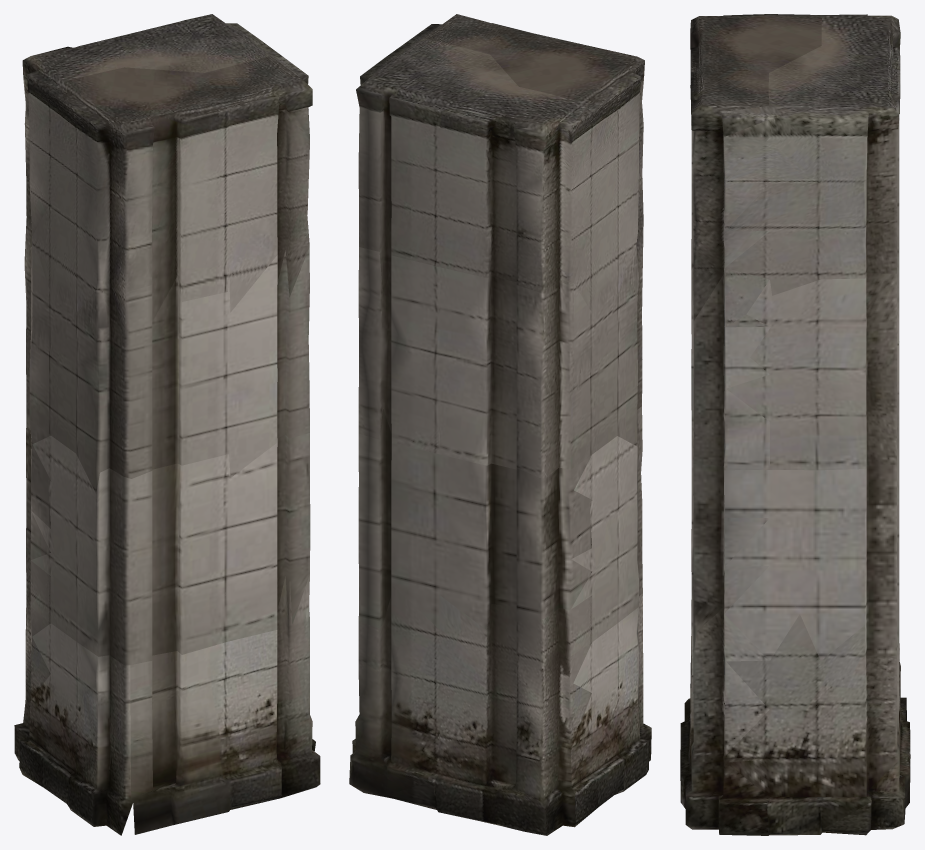
The model's file is sutun2.glb.
3 views of the same model, side by side, from view 1: azimuth 30°, elevation 25°; view 2: azimuth 150°, elevation 25°; view 3: azimuth 270°, elevation 25° (orthographic). The views are drawn at different scales.
Parts seen in each view (by area): view 1: tripo_node_1f91a4f5-8e6b-4793-ac41-afb8d5ba1a52; view 2: tripo_node_1f91a4f5-8e6b-4793-ac41-afb8d5ba1a52; view 3: tripo_node_1f91a4f5-8e6b-4793-ac41-afb8d5ba1a52.
Boxes of the visible parts, x1=… form: tripo_node_1f91a4f5-8e6b-4793-ac41-afb8d5ba1a52: x1=14, y1=14, x2=320, y2=835; tripo_node_1f91a4f5-8e6b-4793-ac41-afb8d5ba1a52: x1=349, y1=14, x2=651, y2=835; tripo_node_1f91a4f5-8e6b-4793-ac41-afb8d5ba1a52: x1=680, y1=14, x2=910, y2=835.
Bounding box in the file's own units: 0.3304 × 1 × 0.2895.
1 material, 1 textured.
